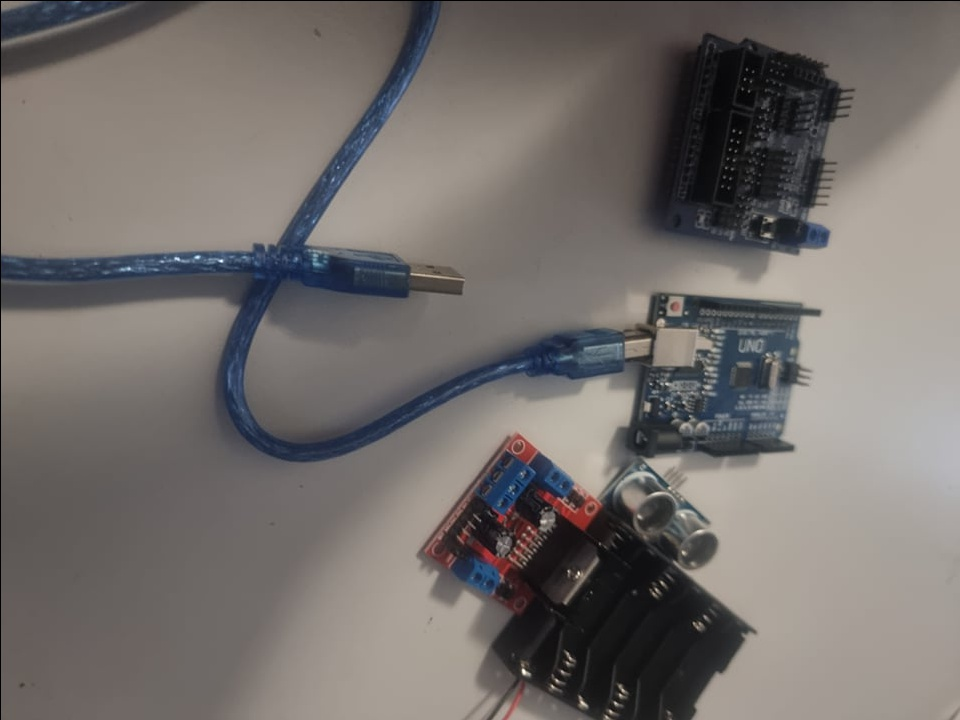5V EXPANSION: (654, 30, 861, 254)
MOTOR: (494, 542, 761, 717), (421, 429, 615, 614)
SENSOR: (618, 462, 718, 578)
UNO R3: (636, 289, 826, 471)
